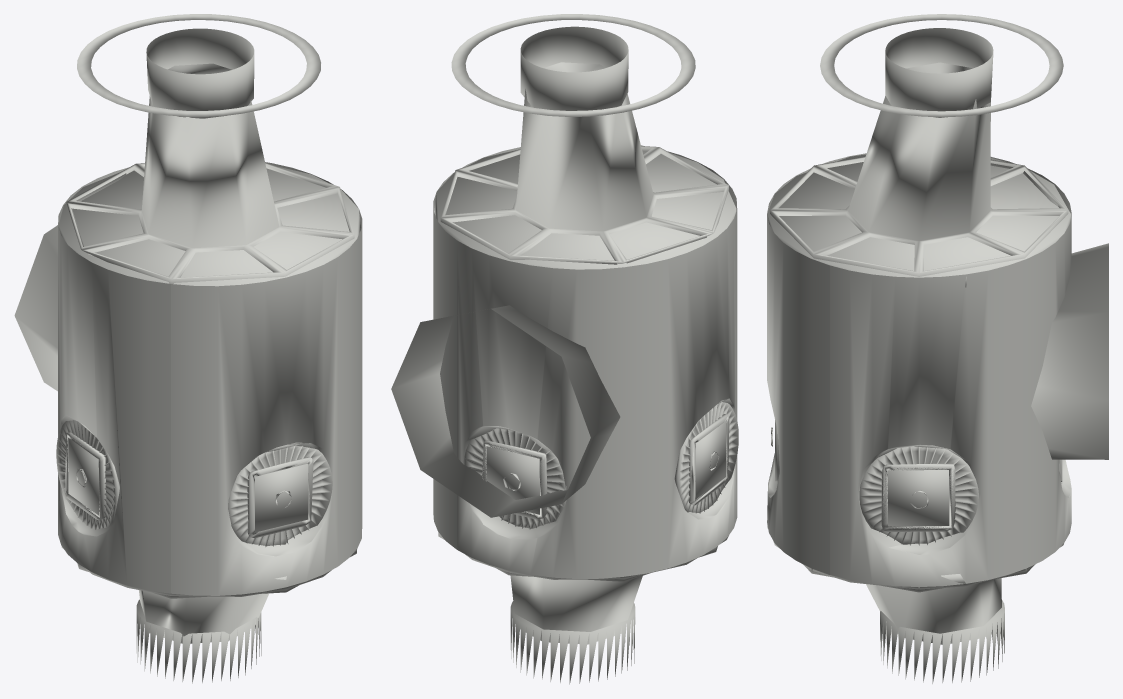
File: iss-unity.glb
3 renders of one model, left to right at view 1: azimuth 30°, elevation 25°; view 2: azimuth 150°, elevation 25°; view 3: azimuth 270°, elevation 25°, orthographic.
Parts seen in each view (by area): view 1: unity; view 2: unity; view 3: unity.
Boxes of the visible parts, x1=… form: unity: x1=14, y1=14, x2=362, y2=683; unity: x1=391, y1=14, x2=738, y2=684; unity: x1=767, y1=14, x2=1108, y2=683.
Size of the model in its own units: 2.26 by 4.99 by 2.54.
1 material, 1 textured.
